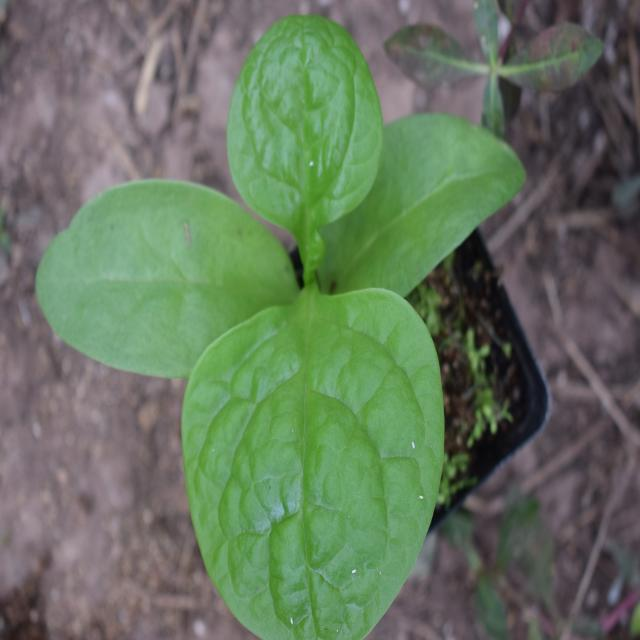Ceylon spinach: (59, 30, 495, 629)
